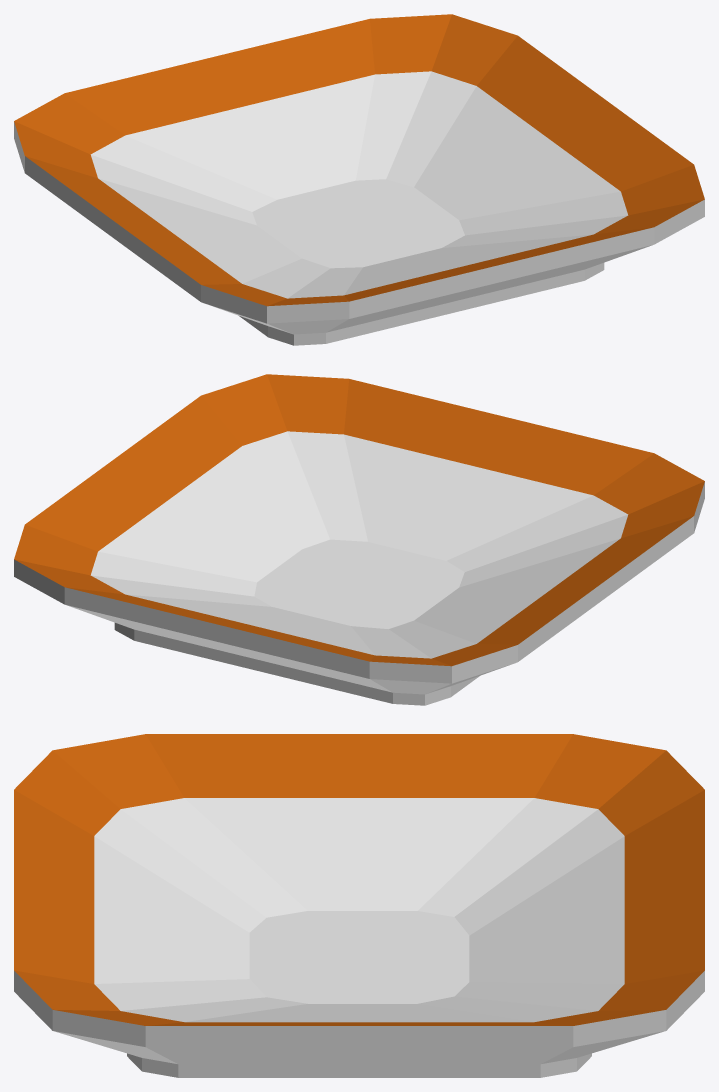
The model's file is R_Plate_Soup_3.fbx.
3 views of the same model, one above another, from view 1: azimuth 30°, elevation 25°; view 2: azimuth 150°, elevation 25°; view 3: azimuth 270°, elevation 25° (orthographic). The views are drawn at different scales.
Parts seen in each view (by area): view 1: R_Plate_Soup_3; view 2: R_Plate_Soup_3; view 3: R_Plate_Soup_3.
Part boxes in pixels (<box>): R_Plate_Soup_3: <box>14,14,704,345</box>; R_Plate_Soup_3: <box>14,374,704,705</box>; R_Plate_Soup_3: <box>14,734,704,1077</box>.
Bounding box in the file's own units: 172 × 172 × 27.37.
